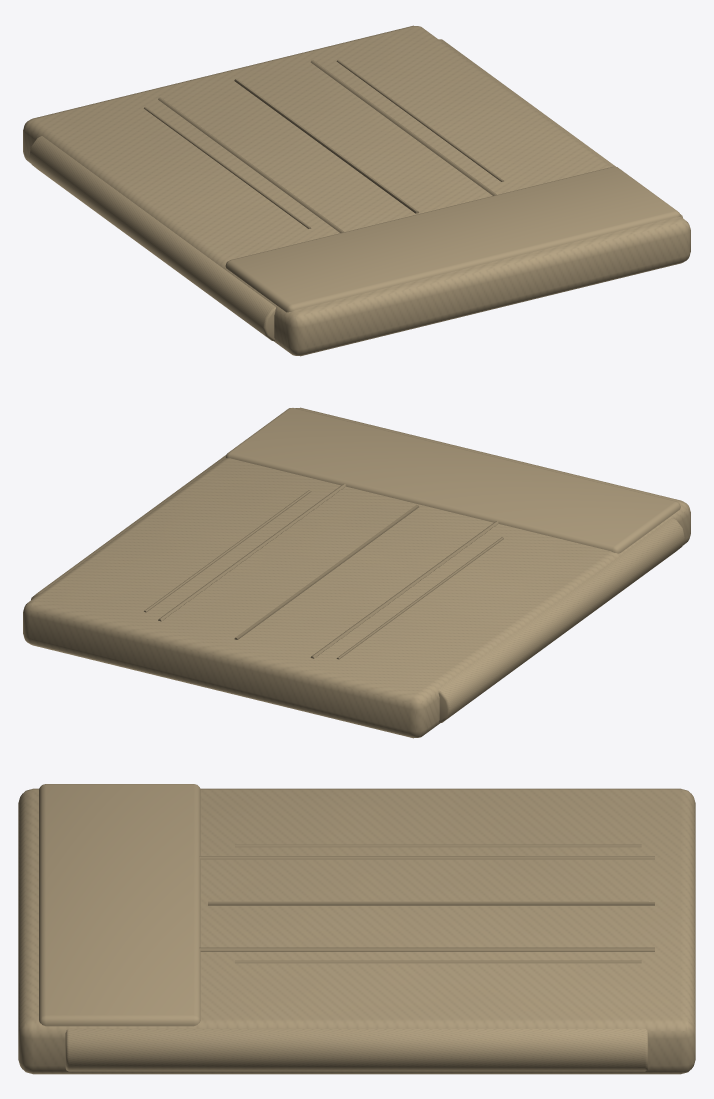
Rendered from pf_shorts_folded.glb.
3 renders of one model, top to bottom at view 1: azimuth 30°, elevation 25°; view 2: azimuth 150°, elevation 25°; view 3: azimuth 270°, elevation 25°, orthographic. The views are drawn at different scales.
Parts seen in each view (by area): view 1: pf_shorts_folded_body.001; view 2: pf_shorts_folded_body.001; view 3: pf_shorts_folded_body.001.
Boxes of the visible parts, bbox=[...] form: pf_shorts_folded_body.001: bbox=[23, 25, 690, 356]; pf_shorts_folded_body.001: bbox=[23, 407, 690, 738]; pf_shorts_folded_body.001: bbox=[18, 784, 695, 1074].
Bounding box in the file's own units: 0.2834 × 0.0325 × 0.324.
4 materials, 1 textured.
